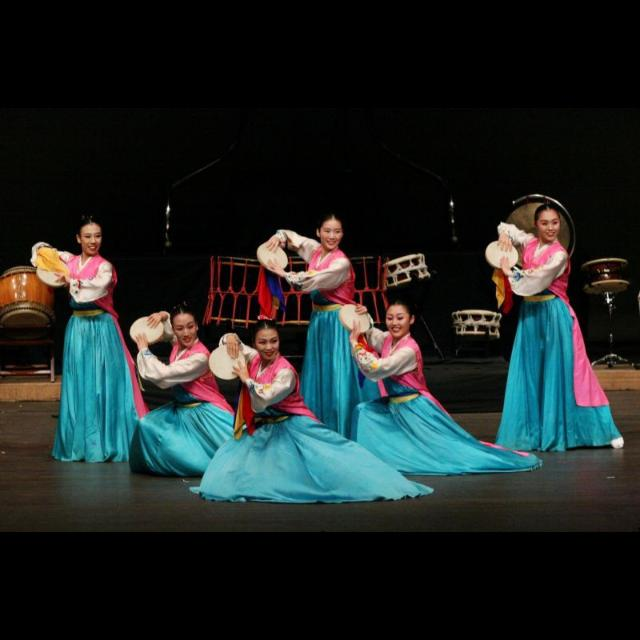head: (316, 208, 348, 252), (251, 321, 281, 363), (171, 306, 201, 348), (387, 300, 417, 340), (76, 216, 104, 258), (534, 204, 562, 242)
person: (185, 316, 438, 506), (332, 292, 546, 478), (480, 190, 630, 452), (26, 211, 160, 469), (250, 208, 378, 464), (125, 300, 278, 482)
